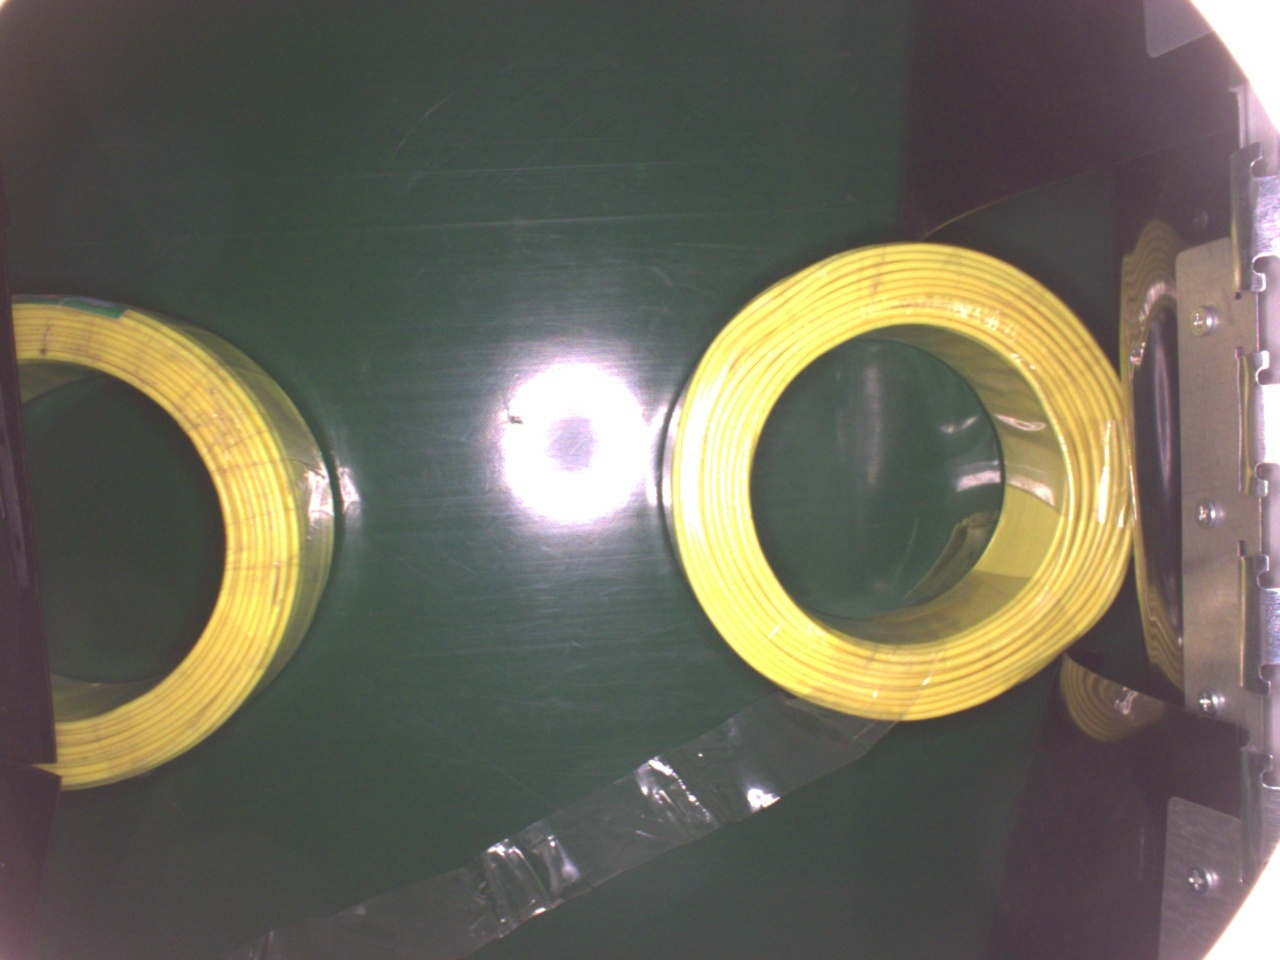yellow: (662, 238, 1132, 722), (11, 285, 340, 792)
